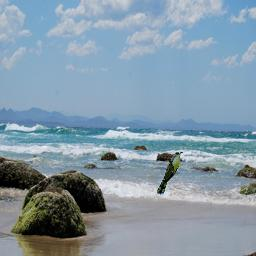Cuckoo: (157, 152, 183, 195)
